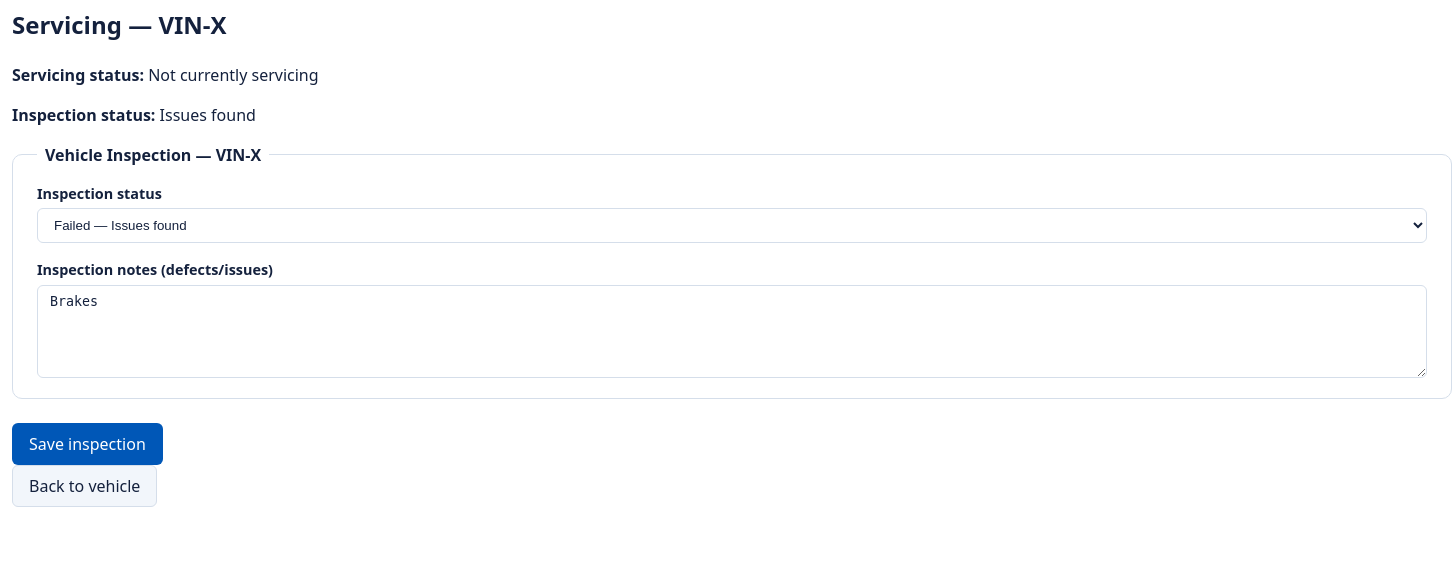
Test: clearing the notes saves no notes
The image size is (1452, 564).
Clear the text box labelled "Inspection notes (defects/issues)" at (732,332), box [37,285,1427,378]
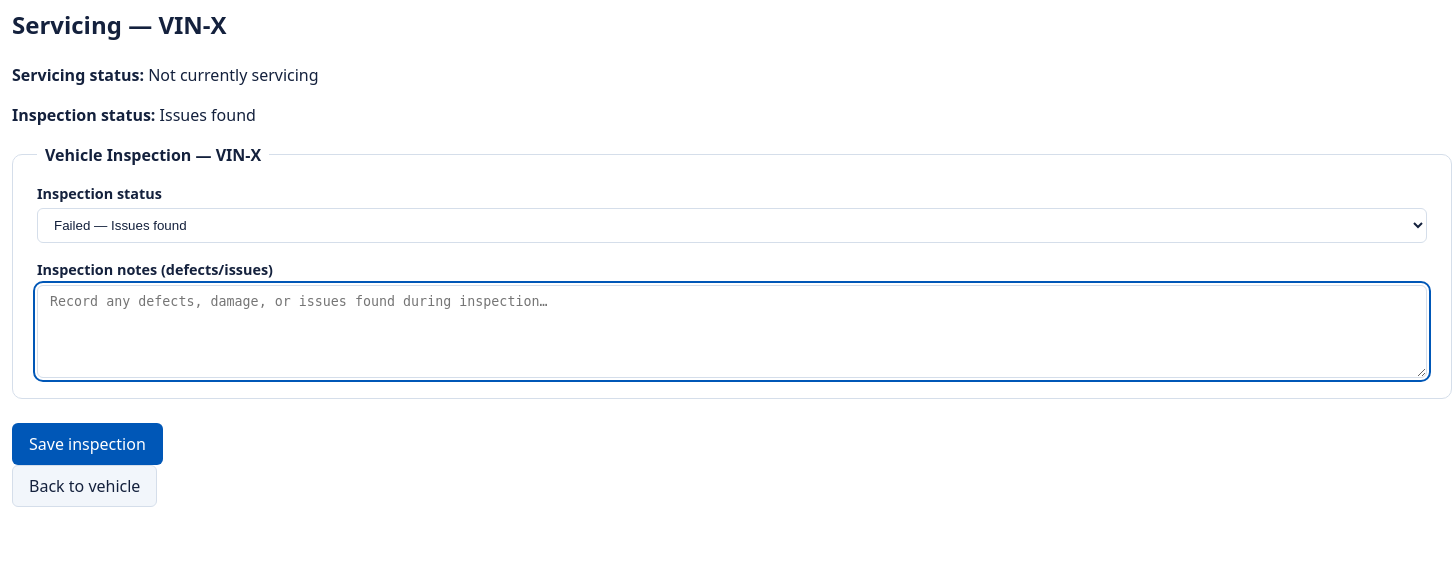
Click the button "Save inspection".
click(87, 444)  # box [12,423,163,465]
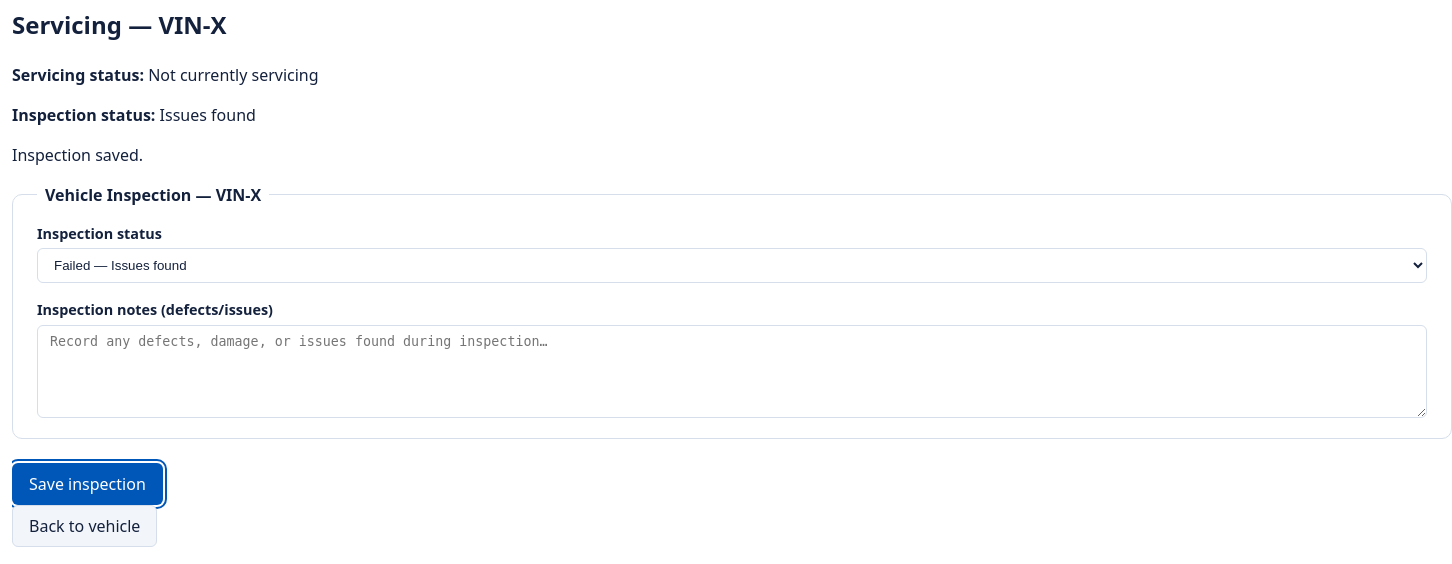
Check: the message "Inspection saved." is shown, box [12,144,143,166]
